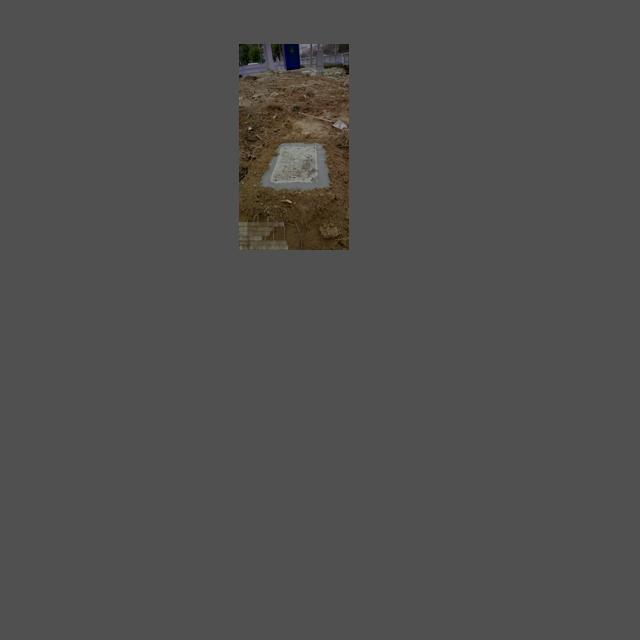good: (271, 142, 318, 183)
